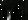person: (9, 7, 17, 20)
